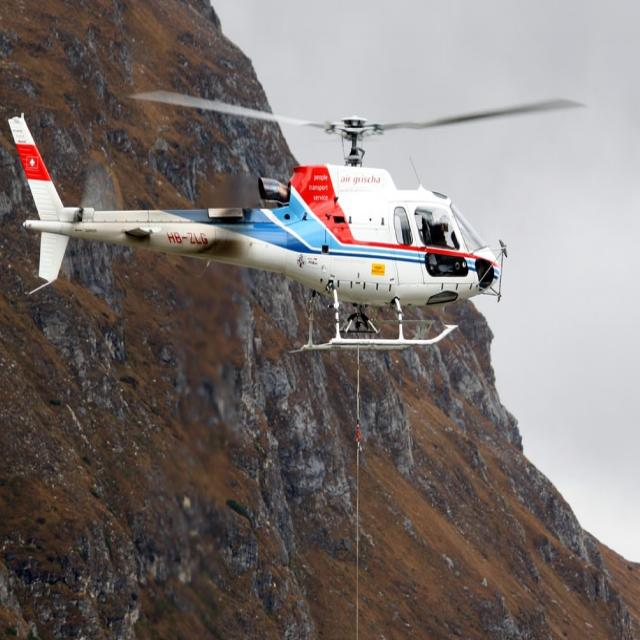helicopter: (5, 94, 585, 341)
